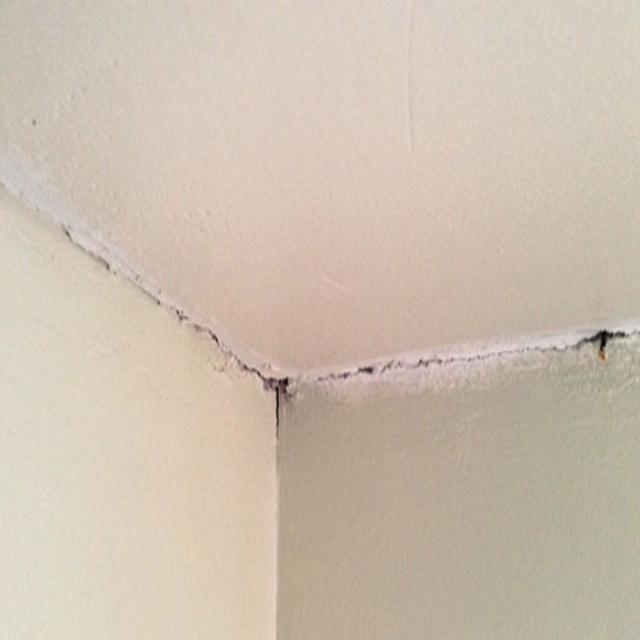Crack: (48, 210, 274, 393), (273, 317, 640, 392), (404, 1, 423, 159), (267, 372, 289, 443)
